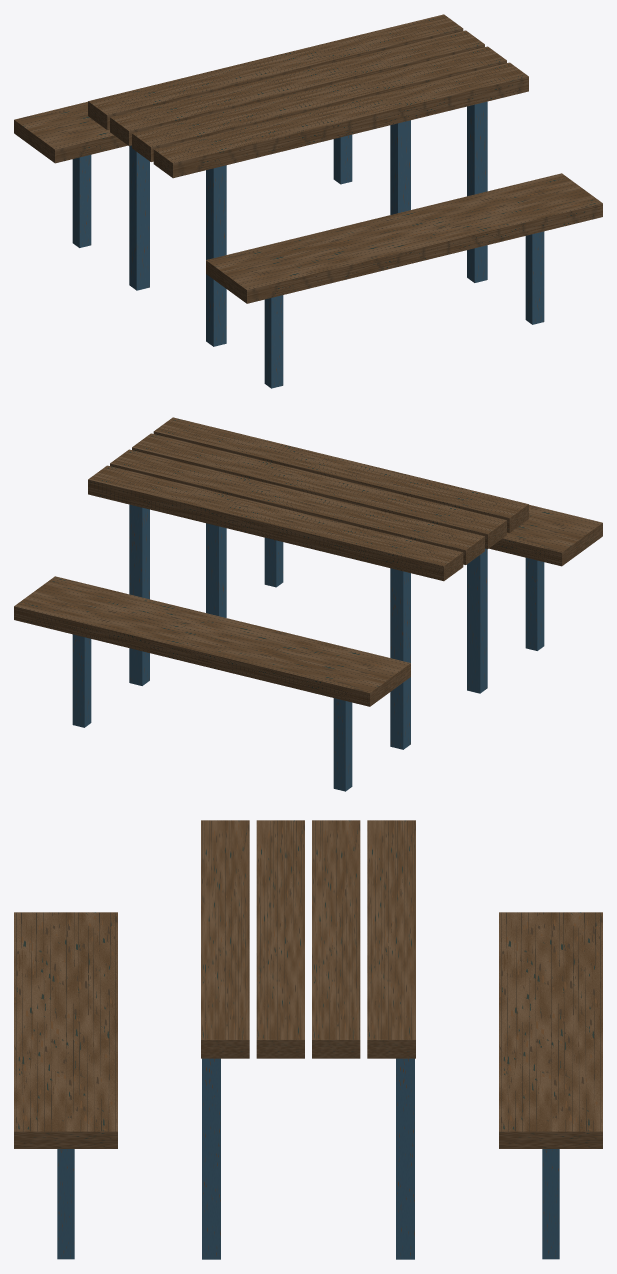
The model's file is CIS_CourtyardTable.glb.
3 views of the same model, one above another, from view 1: azimuth 30°, elevation 25°; view 2: azimuth 150°, elevation 25°; view 3: azimuth 270°, elevation 25° (orthographic). The views are drawn at different scales.
Visible parts, largest first — view 1: CIS_CourtyardTable; view 2: CIS_CourtyardTable; view 3: CIS_CourtyardTable.
Boxes of the visible parts, bbox=[...] form: CIS_CourtyardTable: bbox=[14, 14, 602, 388]; CIS_CourtyardTable: bbox=[14, 417, 602, 791]; CIS_CourtyardTable: bbox=[14, 820, 602, 1259].
Size of the model in its own units: 1.5 by 0.78 by 1.7.
Materials: 2 (2 with a texture image).
